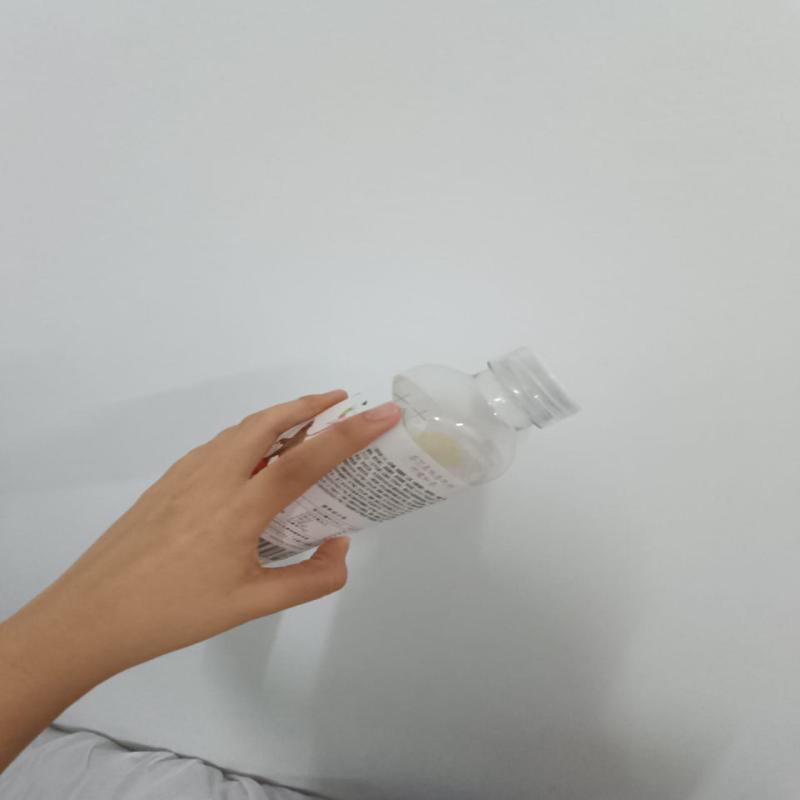botella: (265, 347, 582, 562)
